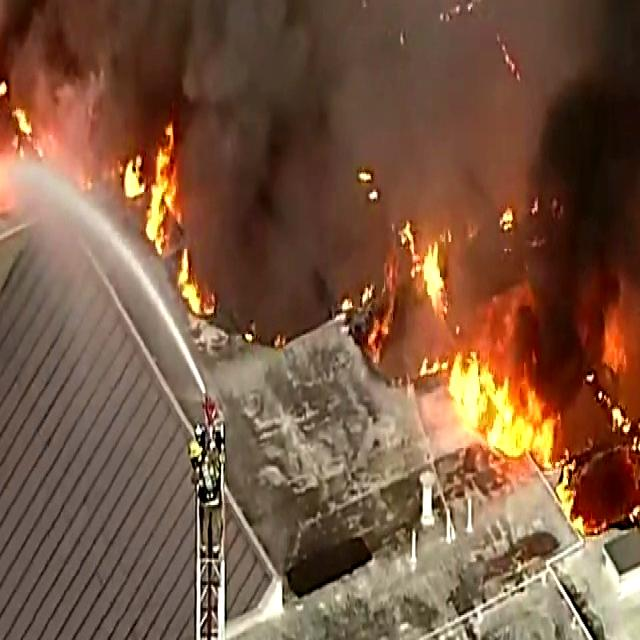fire: (455, 359, 570, 484)
